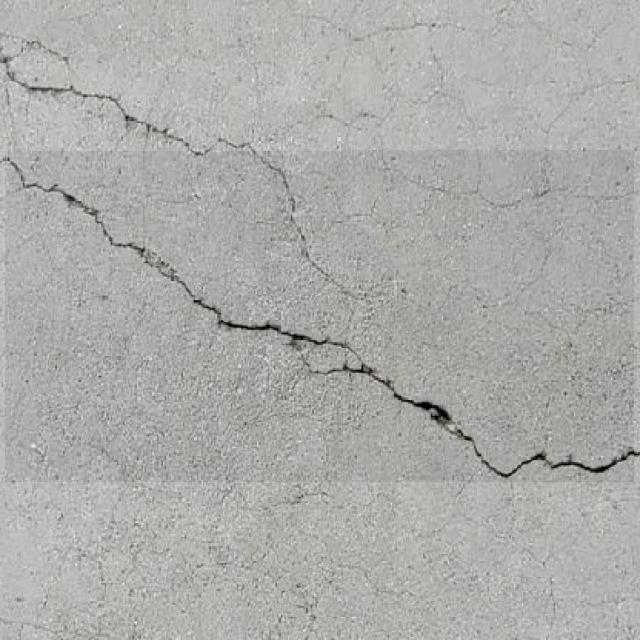diagonal crack: (5, 151, 634, 482), (3, 59, 343, 295)
